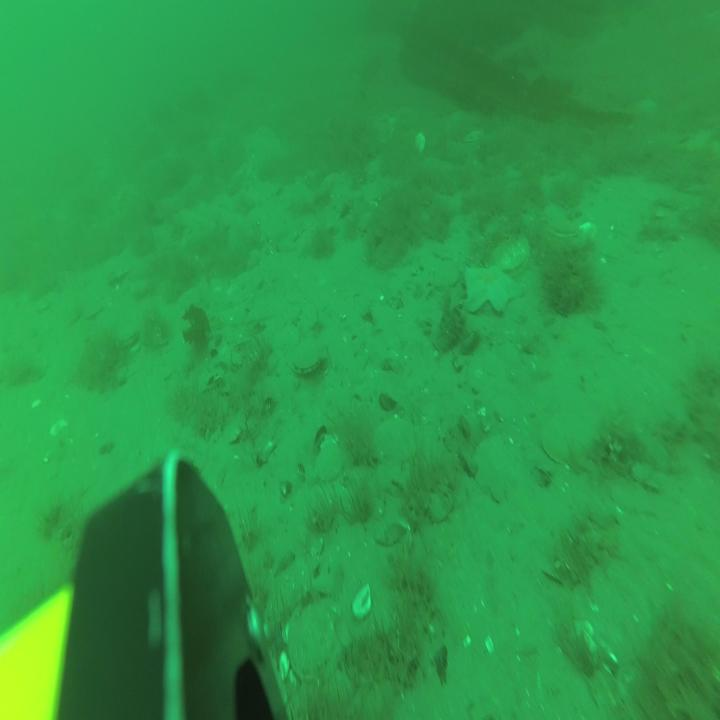scallop: (288, 592, 346, 677), (492, 233, 528, 275), (294, 335, 327, 378), (542, 204, 578, 240), (463, 127, 486, 144), (413, 129, 425, 157)
starfish: (460, 264, 525, 316)
